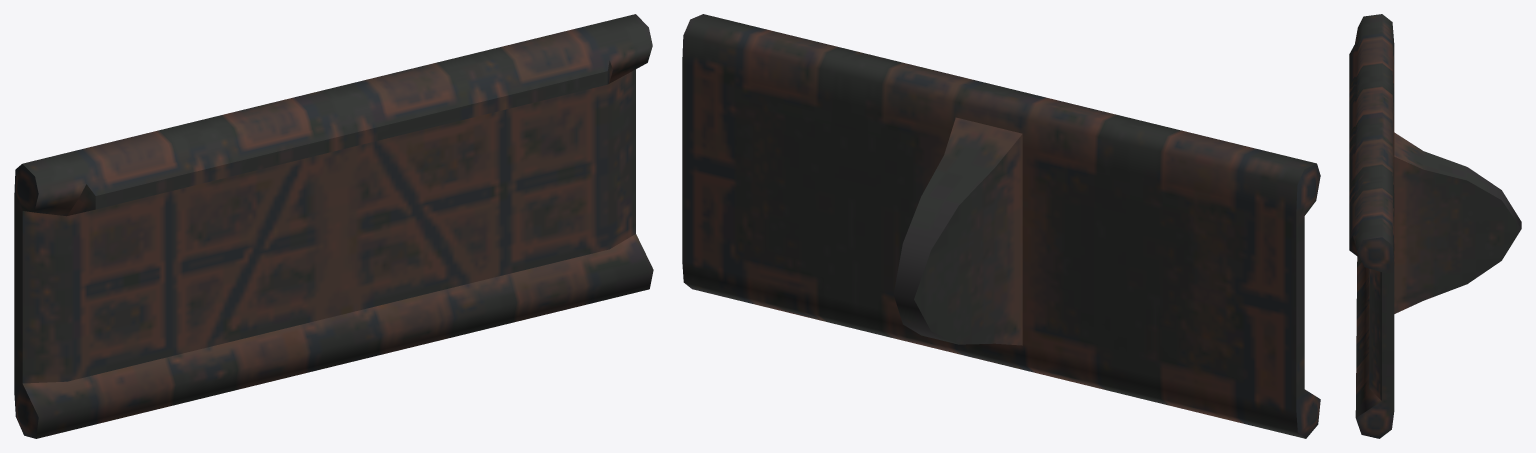
The model's file is track1_segment1.glb.
The picture shows the model from 3 angles, left to right: view 1: azimuth 30°, elevation 25°; view 2: azimuth 150°, elevation 25°; view 3: azimuth 270°, elevation 25°; orthographic projection. The views are drawn at different scales.
Parts seen in each view (by area): view 1: set_0_group_0; view 2: set_0_group_0; view 3: set_0_group_0.
Boxes of the visible parts, box(x1,y1,x2,y2) form: set_0_group_0: box(14, 14, 653, 438); set_0_group_0: box(682, 14, 1320, 438); set_0_group_0: box(1349, 14, 1521, 438).
Bounding box in the file's own units: 0.5015 × 0.2069 × 0.1599.
Materials: 1 (1 with a texture image).
